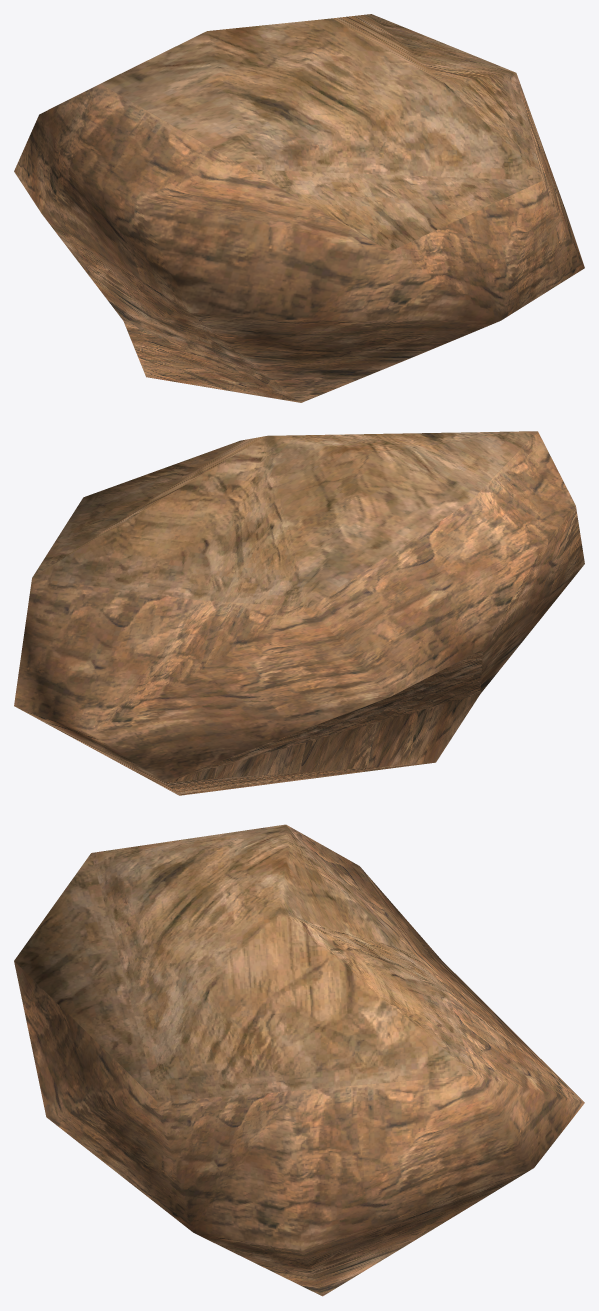
File: rock_tatt_bensmesa_boulder_a4_l2.fbx
3 views of the same model, one above another, from view 1: azimuth 30°, elevation 25°; view 2: azimuth 150°, elevation 25°; view 3: azimuth 270°, elevation 25° (orthographic). The views are drawn at different scales.
Visible parts, largest first — view 1: mesh_node; view 2: mesh_node; view 3: mesh_node.
Boxes of the visible parts, x1,y1,x2,y2 form: mesh_node: (14,14,584,402); mesh_node: (14,431,584,795); mesh_node: (14,824,584,1296).
Size of the model in its own units: 4.26 by 3.04 by 4.51.
